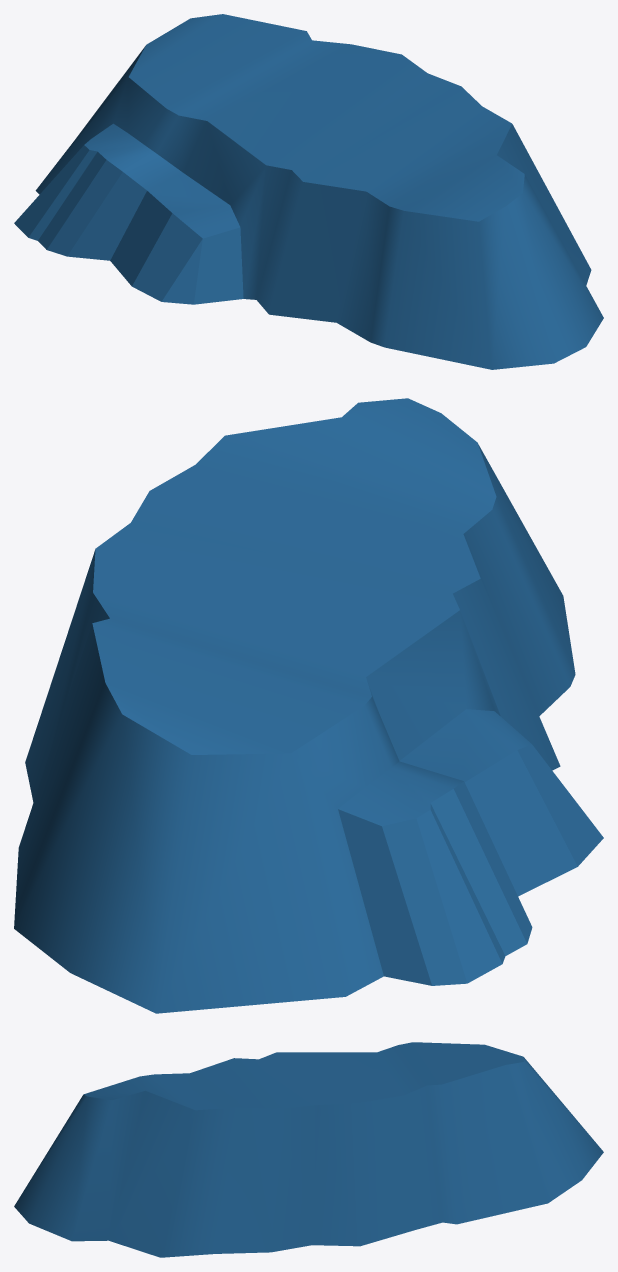
Rendered from mdl_iceCliff01_2.fbx.
The picture shows the model from 3 angles, top to bottom: view 1: azimuth 30°, elevation 25°; view 2: azimuth 150°, elevation 25°; view 3: azimuth 270°, elevation 25°; orthographic projection. The views are drawn at different scales.
Parts seen in each view (by area): view 1: mdl_iceCliff01_3; view 2: mdl_iceCliff01_3; view 3: mdl_iceCliff01_3.
Part boxes in pixels (x1,y1,x2,y2): mdl_iceCliff01_3: [14, 14, 603, 369]; mdl_iceCliff01_3: [14, 398, 603, 1013]; mdl_iceCliff01_3: [14, 1042, 603, 1257].
Bounding box in the file's own units: 304 × 110 × 471.
1 material, 1 textured.
